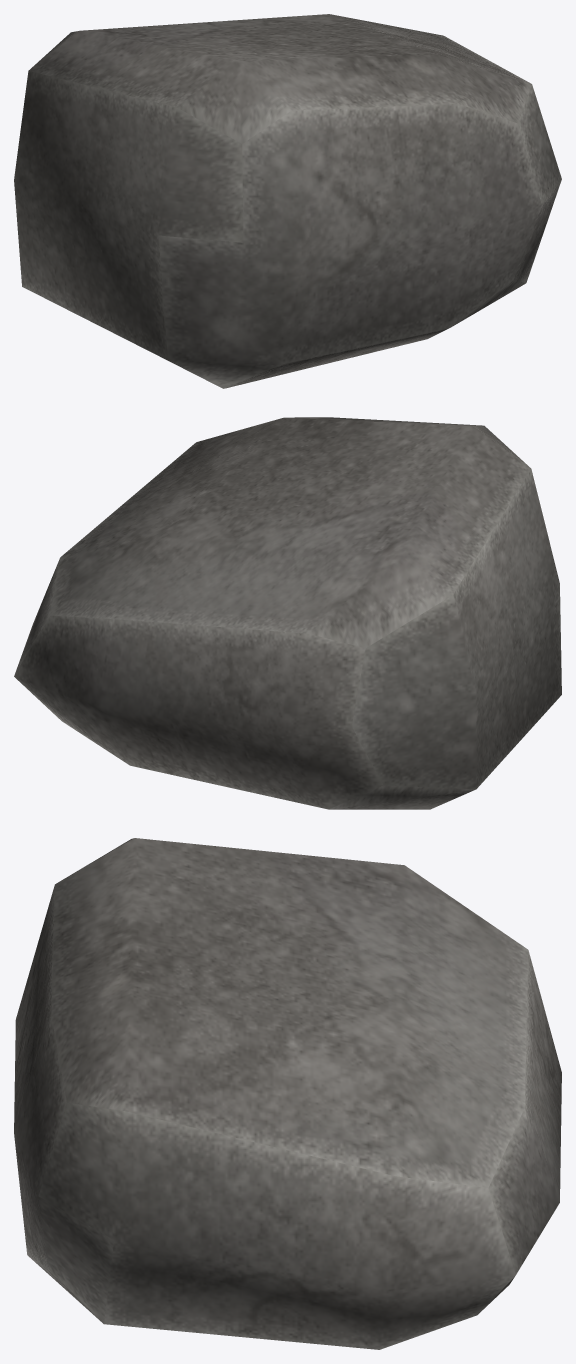
Rendered from Rock_10.fbx.
3 views of the same model, one above another, from view 1: azimuth 30°, elevation 25°; view 2: azimuth 150°, elevation 25°; view 3: azimuth 270°, elevation 25° (orthographic). The views are drawn at different scales.
Parts seen in each view (by area): view 1: Rock_10; view 2: Rock_10; view 3: Rock_10.
Boxes of the visible parts, bbox=[...] form: Rock_10: bbox=[14, 14, 561, 388]; Rock_10: bbox=[14, 417, 561, 809]; Rock_10: bbox=[14, 838, 561, 1349].
Bounding box in the file's own units: 2.06 × 1.31 × 1.8.
1 material, 1 textured.
